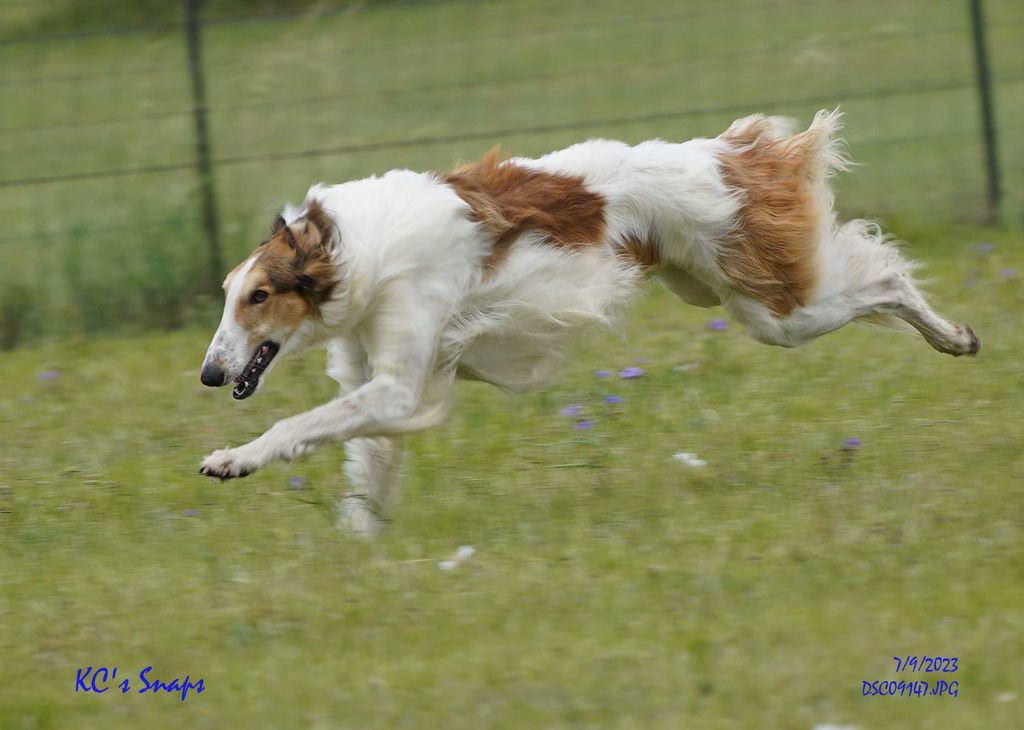borzoi: (142, 85, 990, 536)
